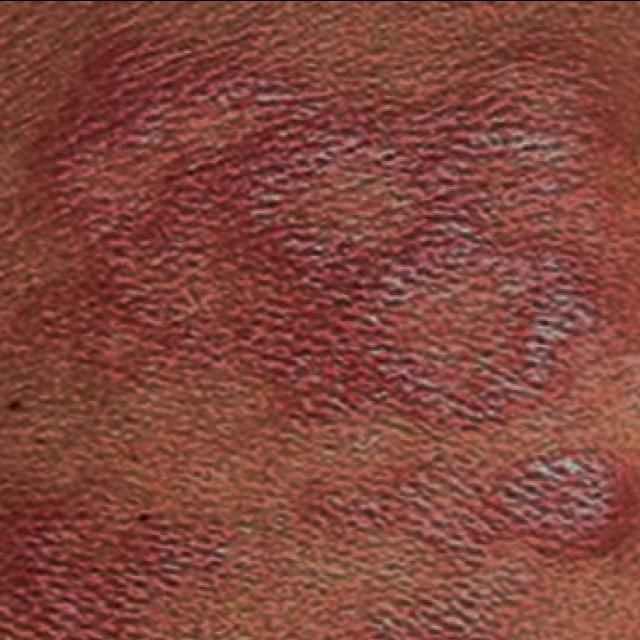Leprosy: (2, 15, 610, 441), (290, 441, 640, 640), (0, 456, 246, 640)
